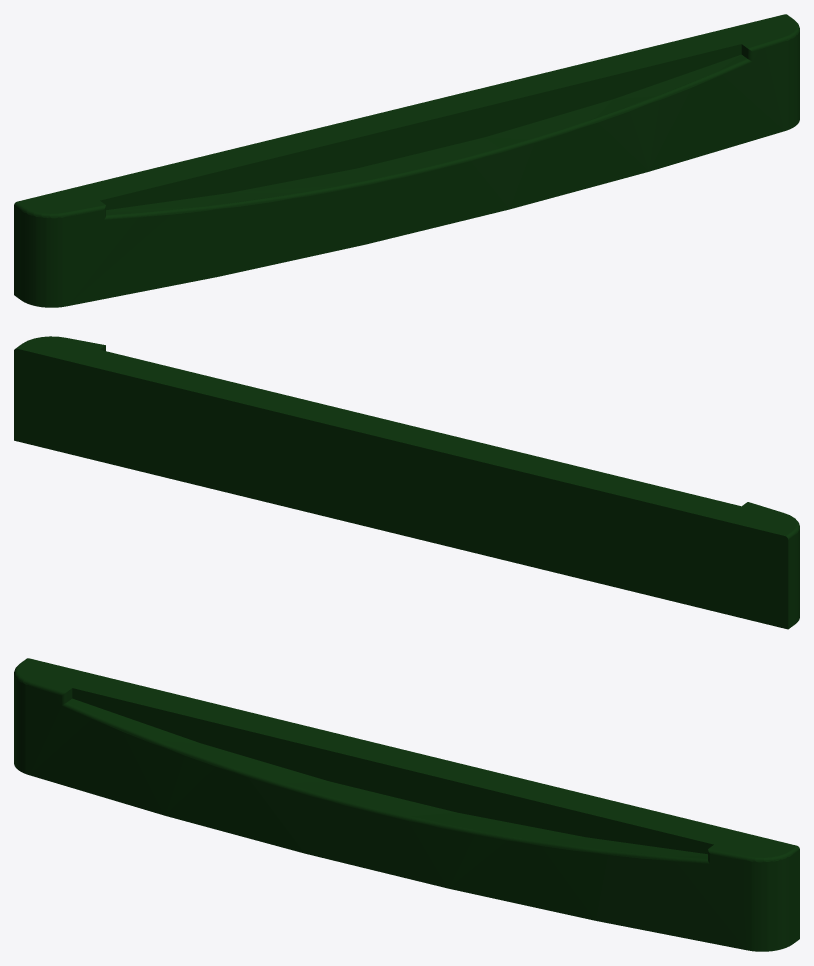
Rendered from original-30.obj.
3 renders of one model, top to bottom at view 1: azimuth 30°, elevation 25°; view 2: azimuth 150°, elevation 25°; view 3: azimuth 330°, elevation 25°, orthographic.
Parts seen in each view (by area): view 1: Group_19/mesh30/mesh30-geometry#mesh30-geometry; view 2: Group_19/mesh30/mesh30-geometry#mesh30-geometry; view 3: Group_19/mesh30/mesh30-geometry#mesh30-geometry.
Boxes of the visible parts, left/top/right/bottom form: Group_19/mesh30/mesh30-geometry#mesh30-geometry: left=14, top=14, right=799, bottom=307; Group_19/mesh30/mesh30-geometry#mesh30-geometry: left=14, top=336, right=799, bottom=629; Group_19/mesh30/mesh30-geometry#mesh30-geometry: left=14, top=658, right=799, bottom=951.
Size of the model in its own units: 1.27 by 0.1451 by 0.104.
